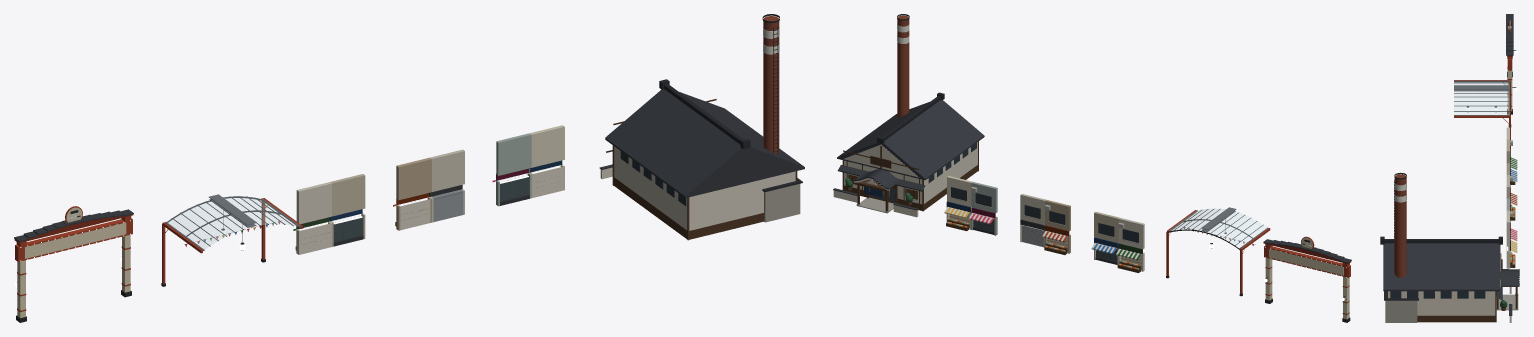
Rendered from tsuru.glb.
3 views of the same model, side by side, from view 1: azimuth 30°, elevation 25°; view 2: azimuth 150°, elevation 25°; view 3: azimuth 270°, elevation 25° (orthographic). The views are drawn at different scales.
Visible parts, largest first — view 1: tsuru_sento_body, tsuru_gate_body, tsuru_roof_body, tsuru_row_a_body, tsuru_row_b_body, tsuru_row_c_body; view 2: tsuru_sento_body, tsuru_gate_body, tsuru_roof_body, tsuru_row_c_body, tsuru_row_a_body, tsuru_row_b_body; view 3: tsuru_sento_body, tsuru_roof_body, tsuru_gate_body, tsuru_row_c_body, tsuru_row_a_body, tsuru_row_b_body.
Part boxes in pixels (bbox=[...]): tsuru_sento_body: bbox=[599, 14, 804, 240]; tsuru_gate_body: bbox=[14, 206, 133, 322]; tsuru_roof_body: bbox=[161, 194, 302, 286]; tsuru_row_a_body: bbox=[293, 174, 365, 254]; tsuru_row_b_body: bbox=[393, 149, 464, 230]; tsuru_row_c_body: bbox=[492, 125, 564, 206]; tsuru_sento_body: bbox=[833, 14, 984, 217]; tsuru_gate_body: bbox=[1263, 236, 1351, 322]; tsuru_roof_body: bbox=[1166, 207, 1270, 296]; tsuru_row_c_body: bbox=[944, 176, 997, 235]; tsuru_row_a_body: bbox=[1091, 212, 1144, 272]; tsuru_row_b_body: bbox=[1020, 194, 1070, 254]; tsuru_sento_body: bbox=[1380, 172, 1519, 322]; tsuru_roof_body: bbox=[1454, 80, 1511, 151]; tsuru_gate_body: bbox=[1506, 14, 1517, 114]; tsuru_row_c_body: bbox=[1506, 198, 1517, 268]; tsuru_row_a_body: bbox=[1506, 127, 1517, 184]; tsuru_row_b_body: bbox=[1506, 163, 1517, 220].
Bounding box in the file's own units: 84.4 × 22.2 × 19.88.
